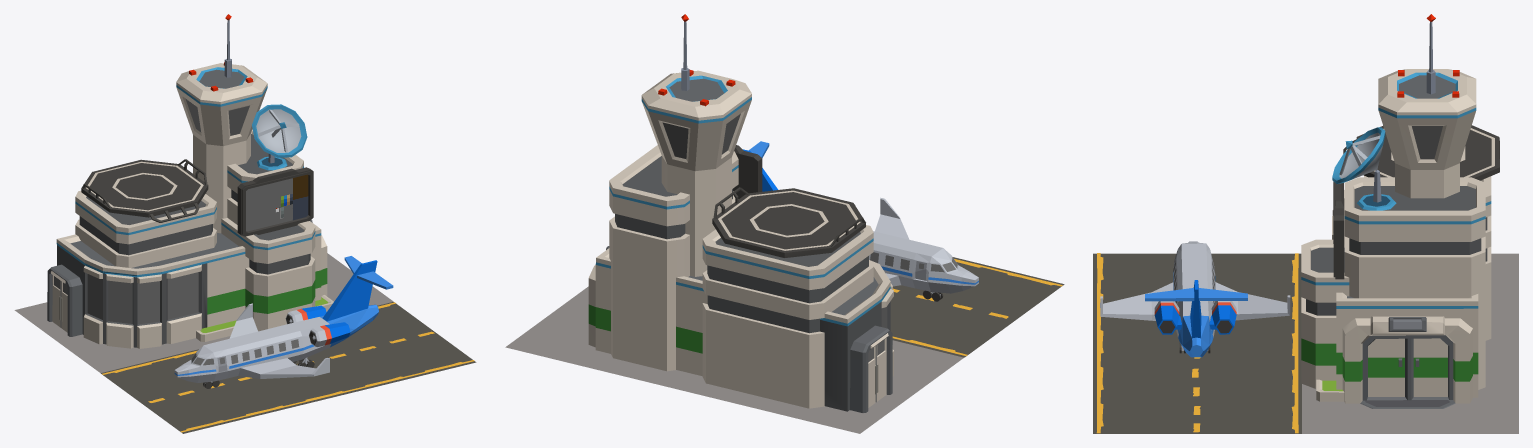
The model's file is Build_Airport03.FBX.
The picture shows the model from 3 angles, left to right: view 1: azimuth 30°, elevation 25°; view 2: azimuth 150°, elevation 25°; view 3: azimuth 270°, elevation 25°; orthographic projection. The views are drawn at different scales.
Parts seen in each view (by area): view 1: Build_Airport03, Airplane03, Build_Airport03_Radar01; view 2: Build_Airport03, Airplane03; view 3: Build_Airport03, Airplane03, Build_Airport03_Radar01.
Boxes of the visible parts, x1,y1,x2,y2 form: Build_Airport03: (14,14,476,433); Airplane03: (174,256,393,388); Build_Airport03_Radar01: (252,104,307,157); Build_Airport03: (505,14,1064,433); Airplane03: (743,141,978,301); Build_Airport03: (1093,14,1518,433); Airplane03: (1100,241,1290,357); Build_Airport03_Radar01: (1332,127,1385,183).
Size of the model in its own units: 901 by 818 by 899.
1 material, 1 textured.
